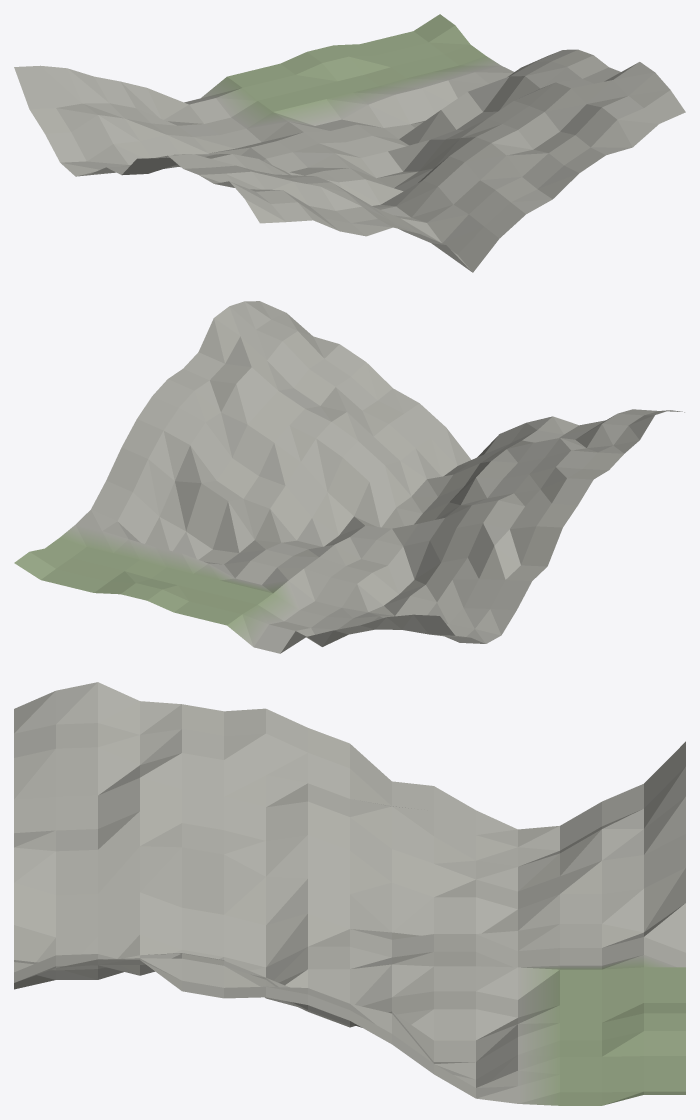
The picture shows the model from 3 angles, top to bottom: view 1: azimuth 30°, elevation 25°; view 2: azimuth 150°, elevation 25°; view 3: azimuth 270°, elevation 25°; orthographic projection. The views are drawn at different scales.
Size of the model in its own units: 32 by 9.18 by 32.
